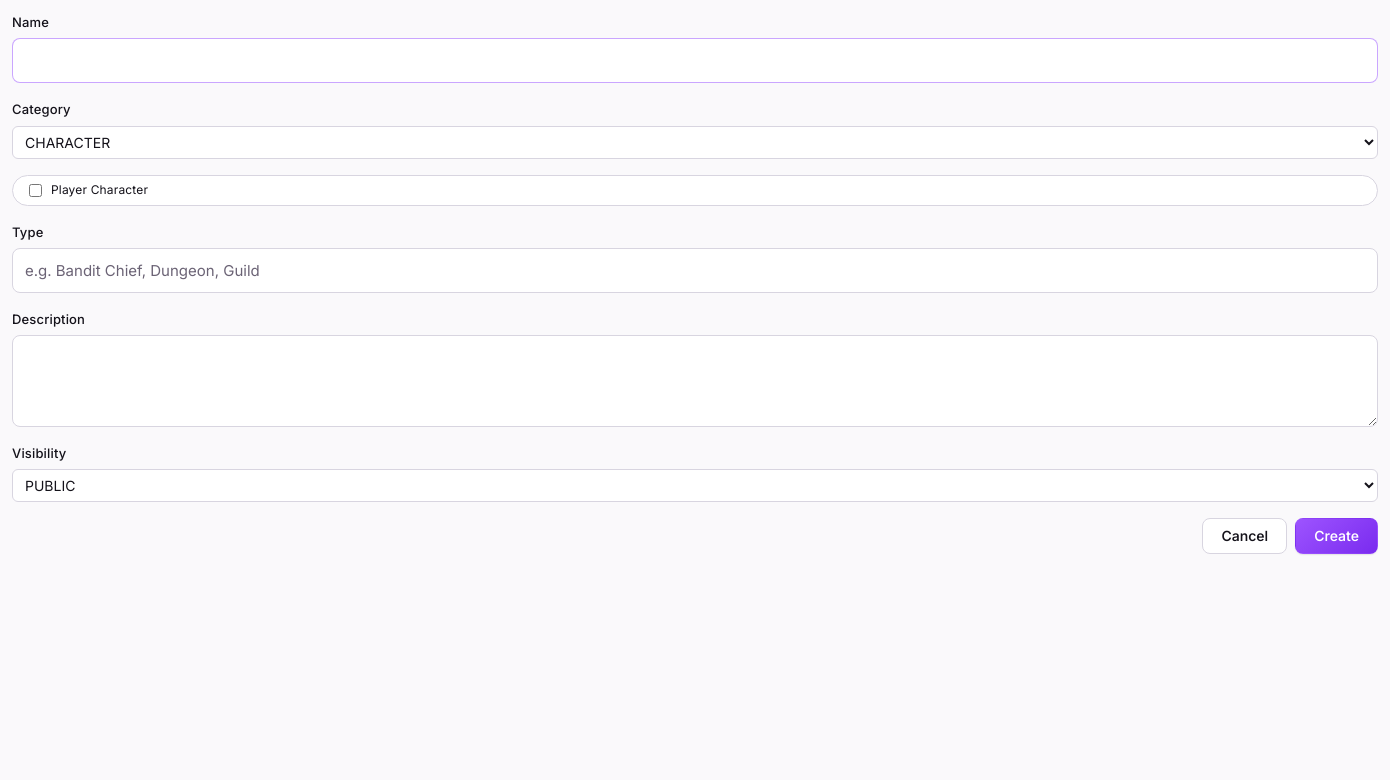
Test: EntityFormWindow › hides the Player Character checkbox for non-CHARACTER categories
The width and height of the screenshot is (1390, 780).
Select "LOCATION" in the dropdown labelled "Category" at coordinates (695, 142), box 12,126 -> 1378,158
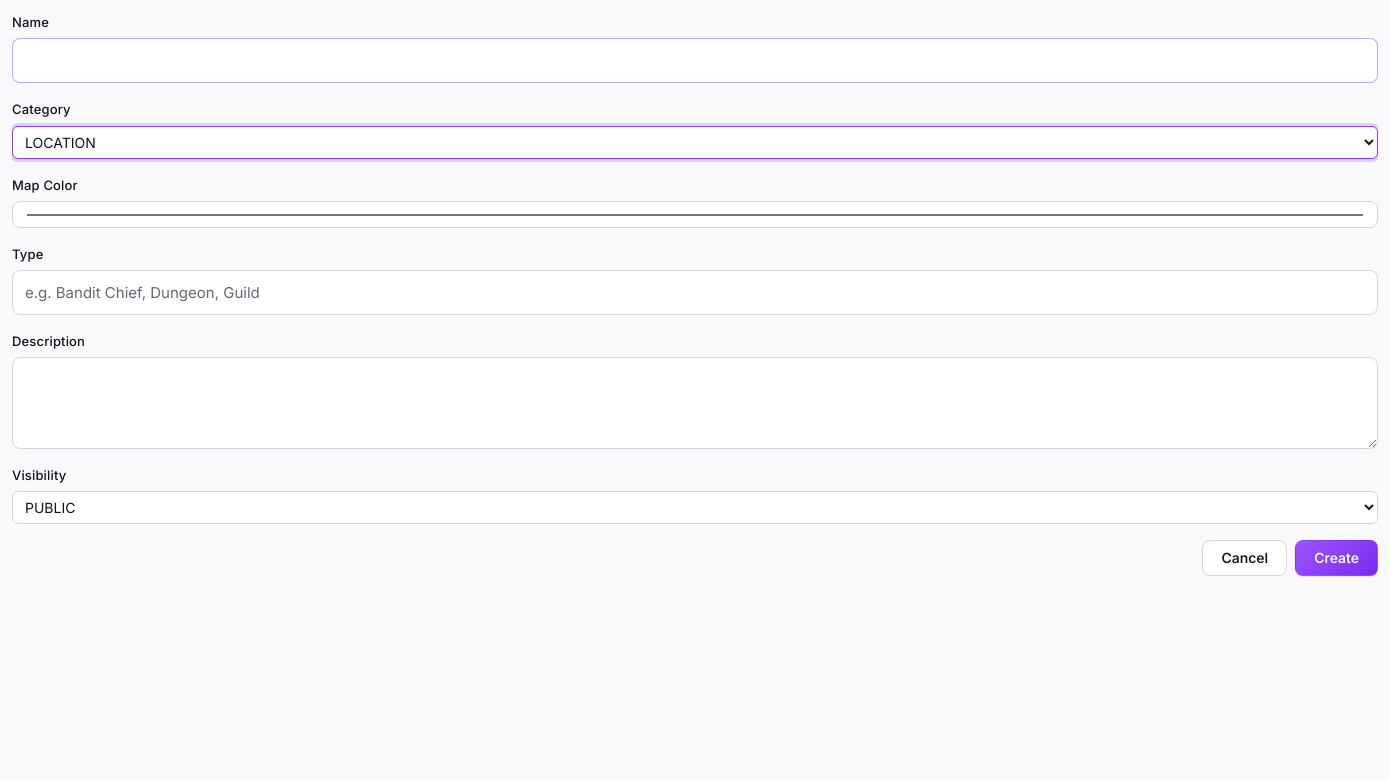
expect the label labelled "Player Character" is gone: met
